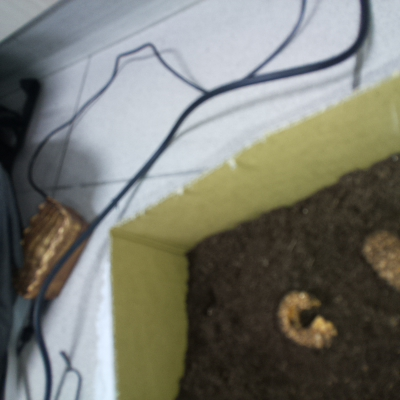eggs: (269, 283, 344, 355), (354, 221, 400, 302)
